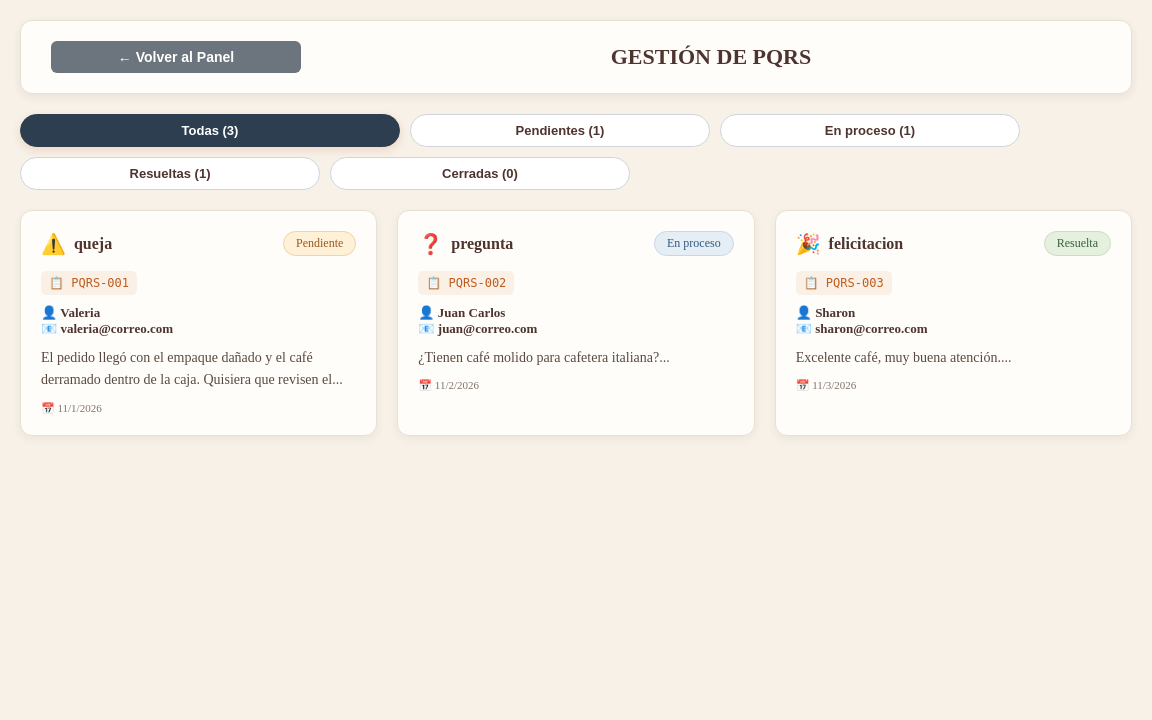
Test: VerPqrs - actualizar estado › muestra el mensaje de éxito con el estado en español y cierra el modal
The width and height of the screenshot is (1152, 720).
Check: the heading "GESTIÓN DE PQRS" is shown, box [611, 44, 811, 69]
Click the text "📋 PQRS-001" at [89, 283], box [41, 271, 137, 295]
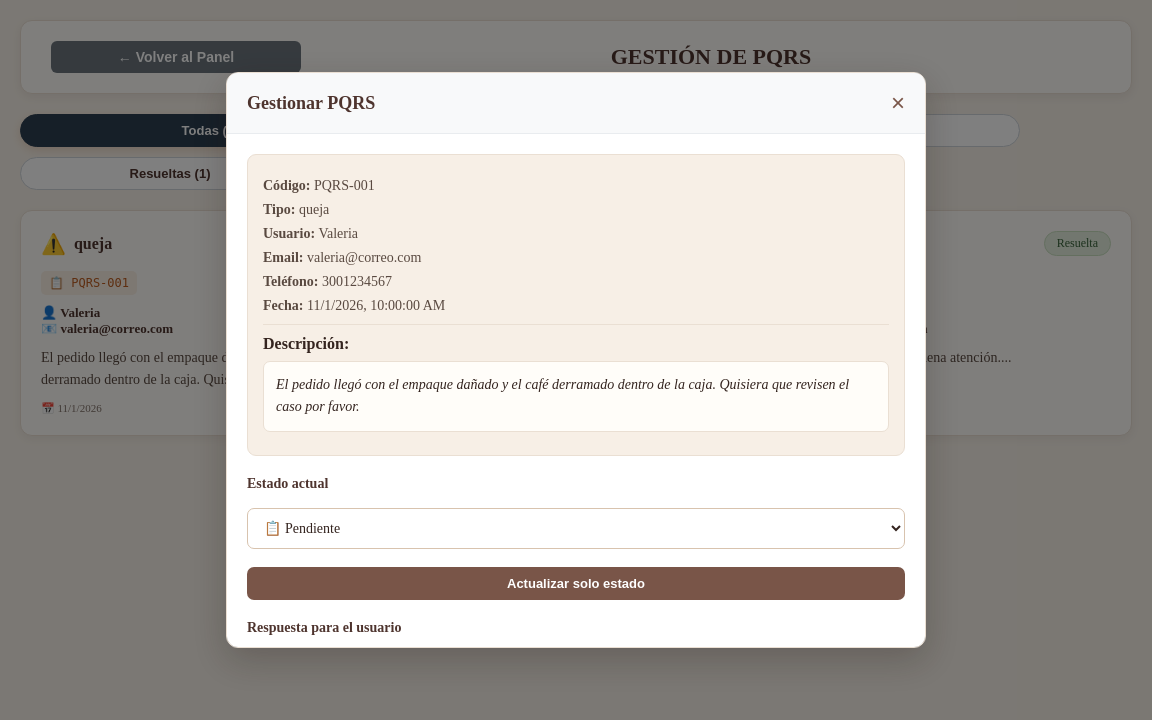
Check: the heading "Gestionar PQRS" is shown, box [247, 92, 375, 114]
Select "🔄 En proceso" in the dropdown at [576, 528], box [247, 508, 905, 549]
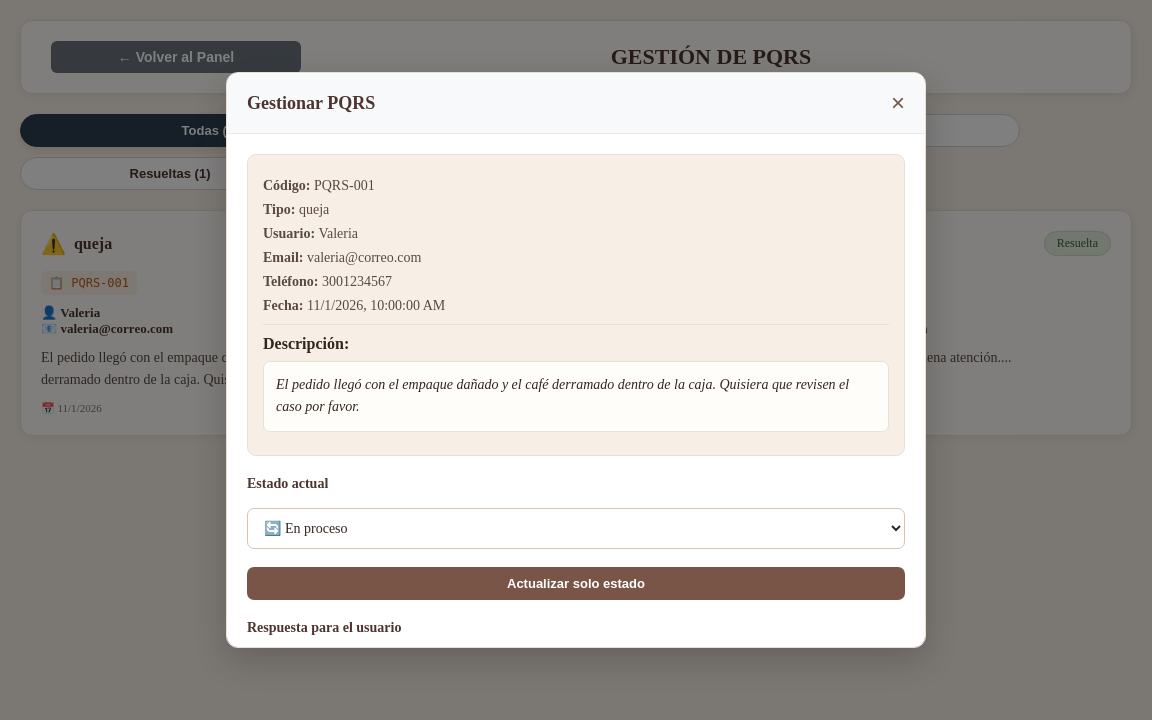
Click the button "Actualizar solo estado" at [576, 583], box [247, 567, 905, 600]
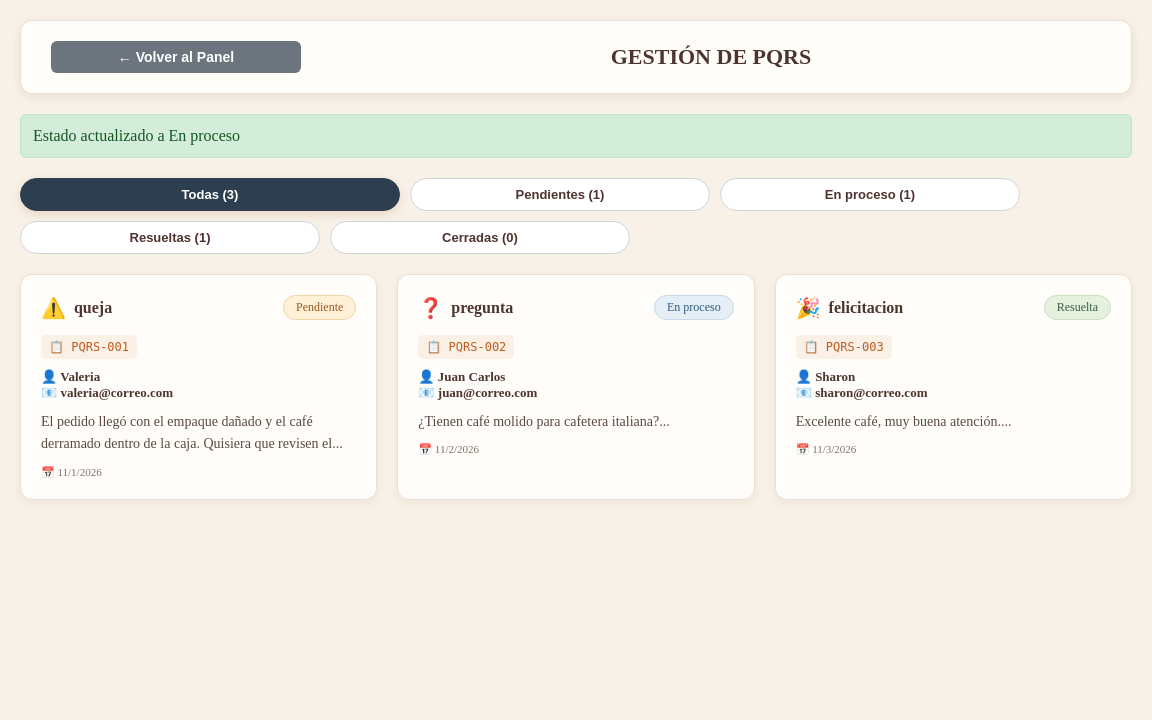
Check: the text "Estado actualizado a En proceso" is shown, box [20, 114, 1132, 158]
Check: the heading "Gestionar PQRS" is gone
